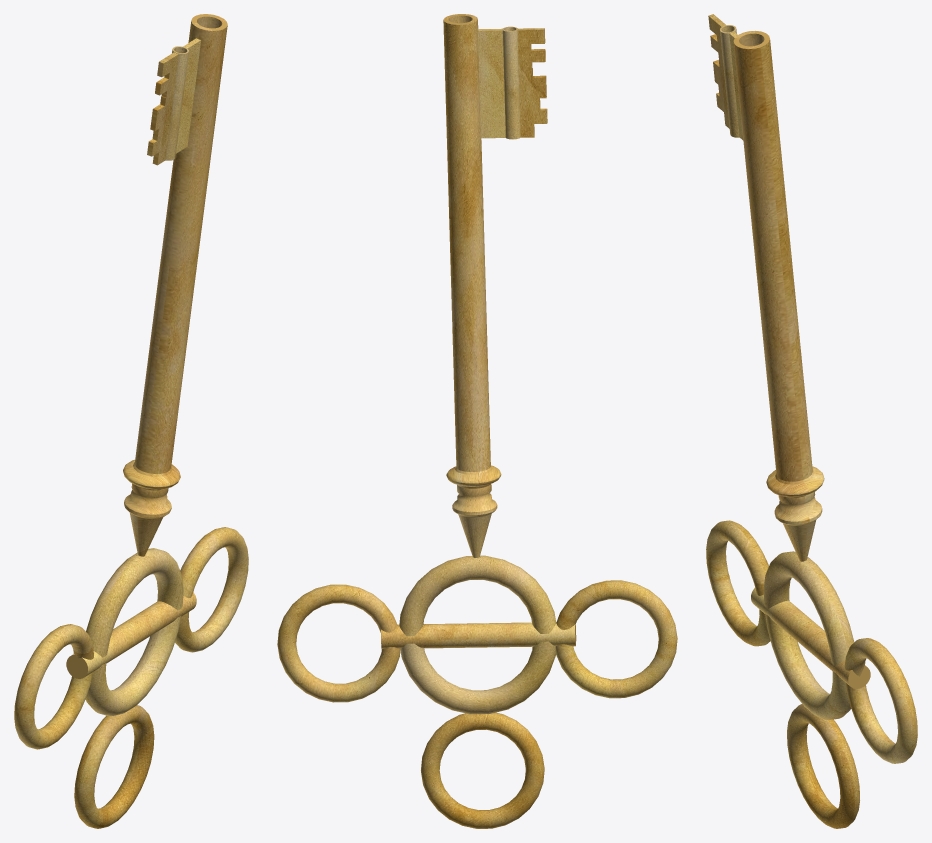
Rendered from key.fbx.
The picture shows the model from 3 angles, left to right: view 1: azimuth 30°, elevation 25°; view 2: azimuth 150°, elevation 25°; view 3: azimuth 270°, elevation 25°; orthographic projection. The views are drawn at different scales.
Parts seen in each view (by area): view 1: pTorus6; view 2: pTorus6; view 3: pTorus6.
Boxes of the visible parts, box(x1,y1,x2,y2) form: pTorus6: box(14, 14, 248, 828); pTorus6: box(277, 14, 677, 828); pTorus6: box(706, 14, 917, 828).
Bounding box in the file's own units: 2.57 × 6.15 × 1.45.
Materials: 1 (1 with a texture image).
